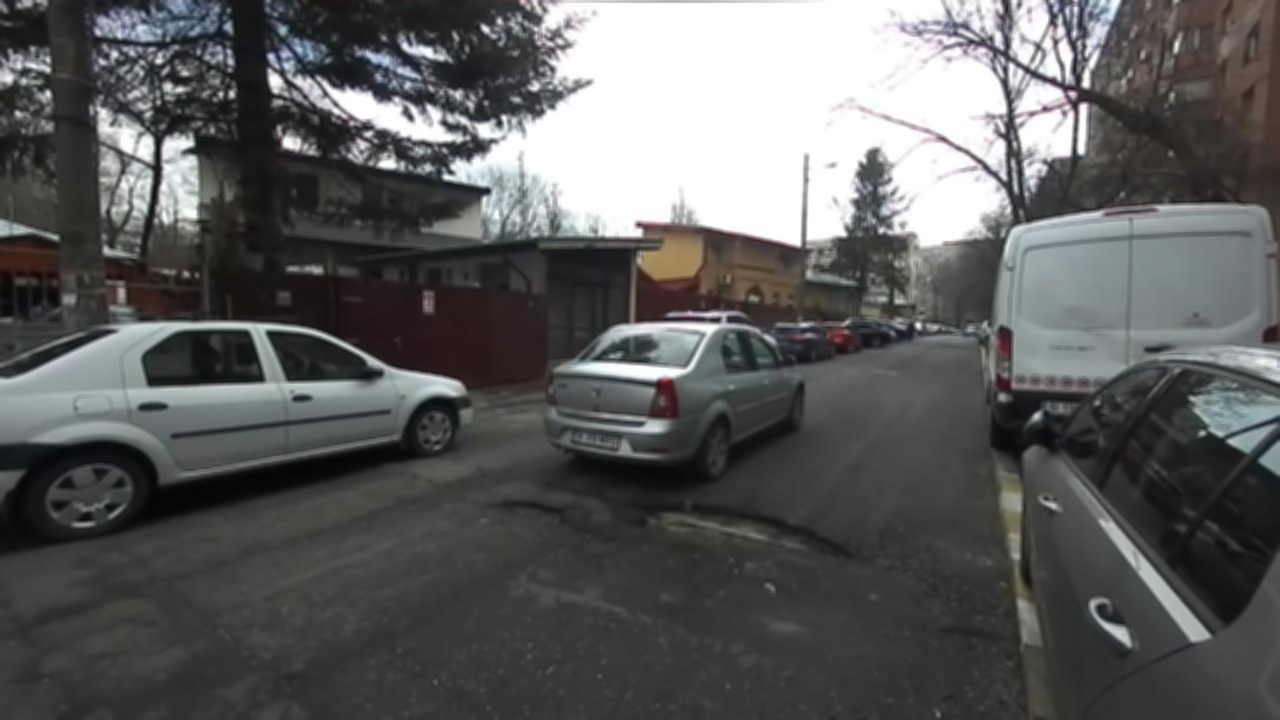pothole: (637, 495, 870, 564), (490, 494, 571, 534)
